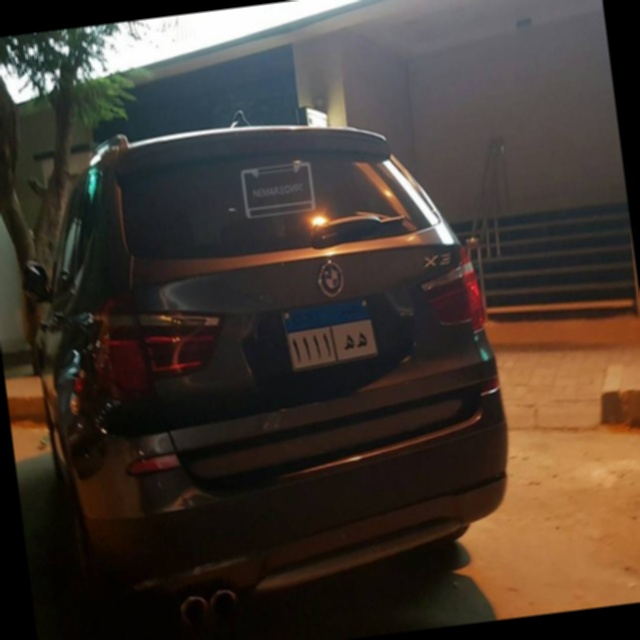License Plate: (278, 294, 383, 376)
